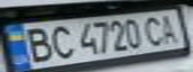0: (124, 16, 145, 50)
2: (109, 17, 130, 52)
4: (75, 20, 96, 56)
7: (90, 18, 112, 54)
A: (154, 11, 181, 44)
B: (18, 25, 57, 63)
C: (45, 22, 75, 60), (139, 14, 169, 47)
